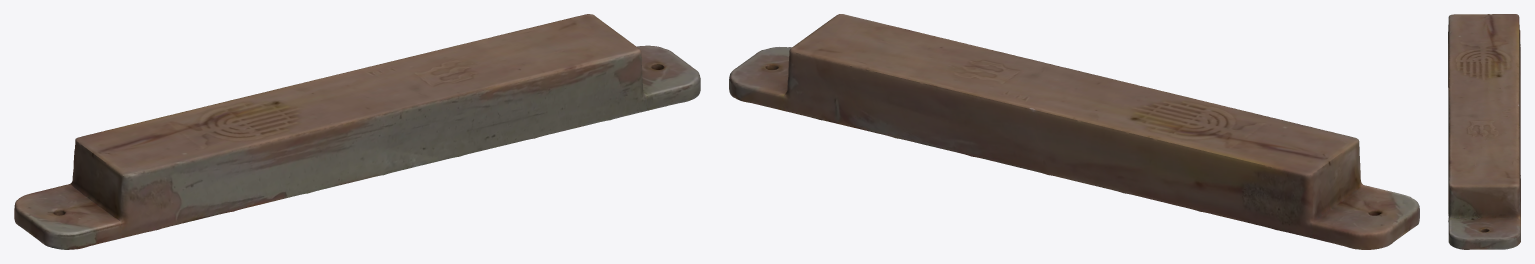
Rendered from preview.glb.
3 views of the same model, side by side, from view 1: azimuth 30°, elevation 25°; view 2: azimuth 150°, elevation 25°; view 3: azimuth 270°, elevation 25° (orthographic). The views are drawn at different scales.
Visible parts, largest first — view 1: Object_2; view 2: Object_2; view 3: Object_2.
Part boxes in pixels (x1,y1,x2,y2): Object_2: (14,14,700,249); Object_2: (729,14,1419,249); Object_2: (1448,14,1520,249).
Size of the model in its own units: 36.71 by 3.4 by 5.23.
1 material, 1 textured.
